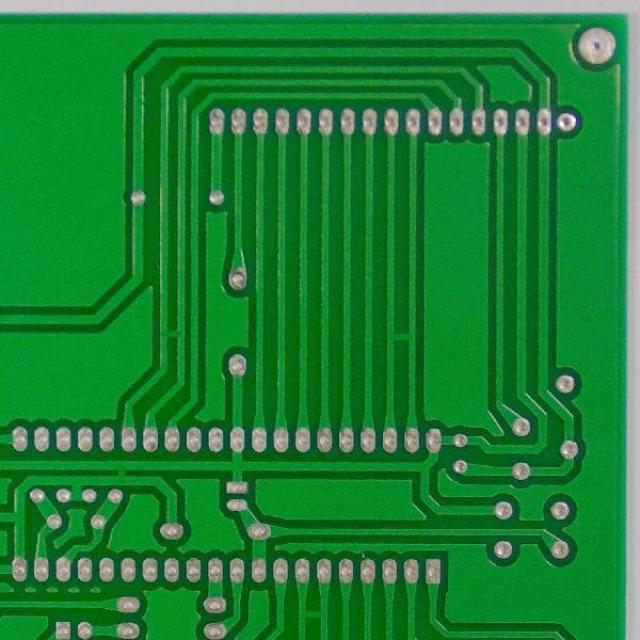Short_Circuit: (380, 319, 420, 353), (294, 602, 333, 628), (157, 318, 189, 348), (109, 458, 133, 488)
